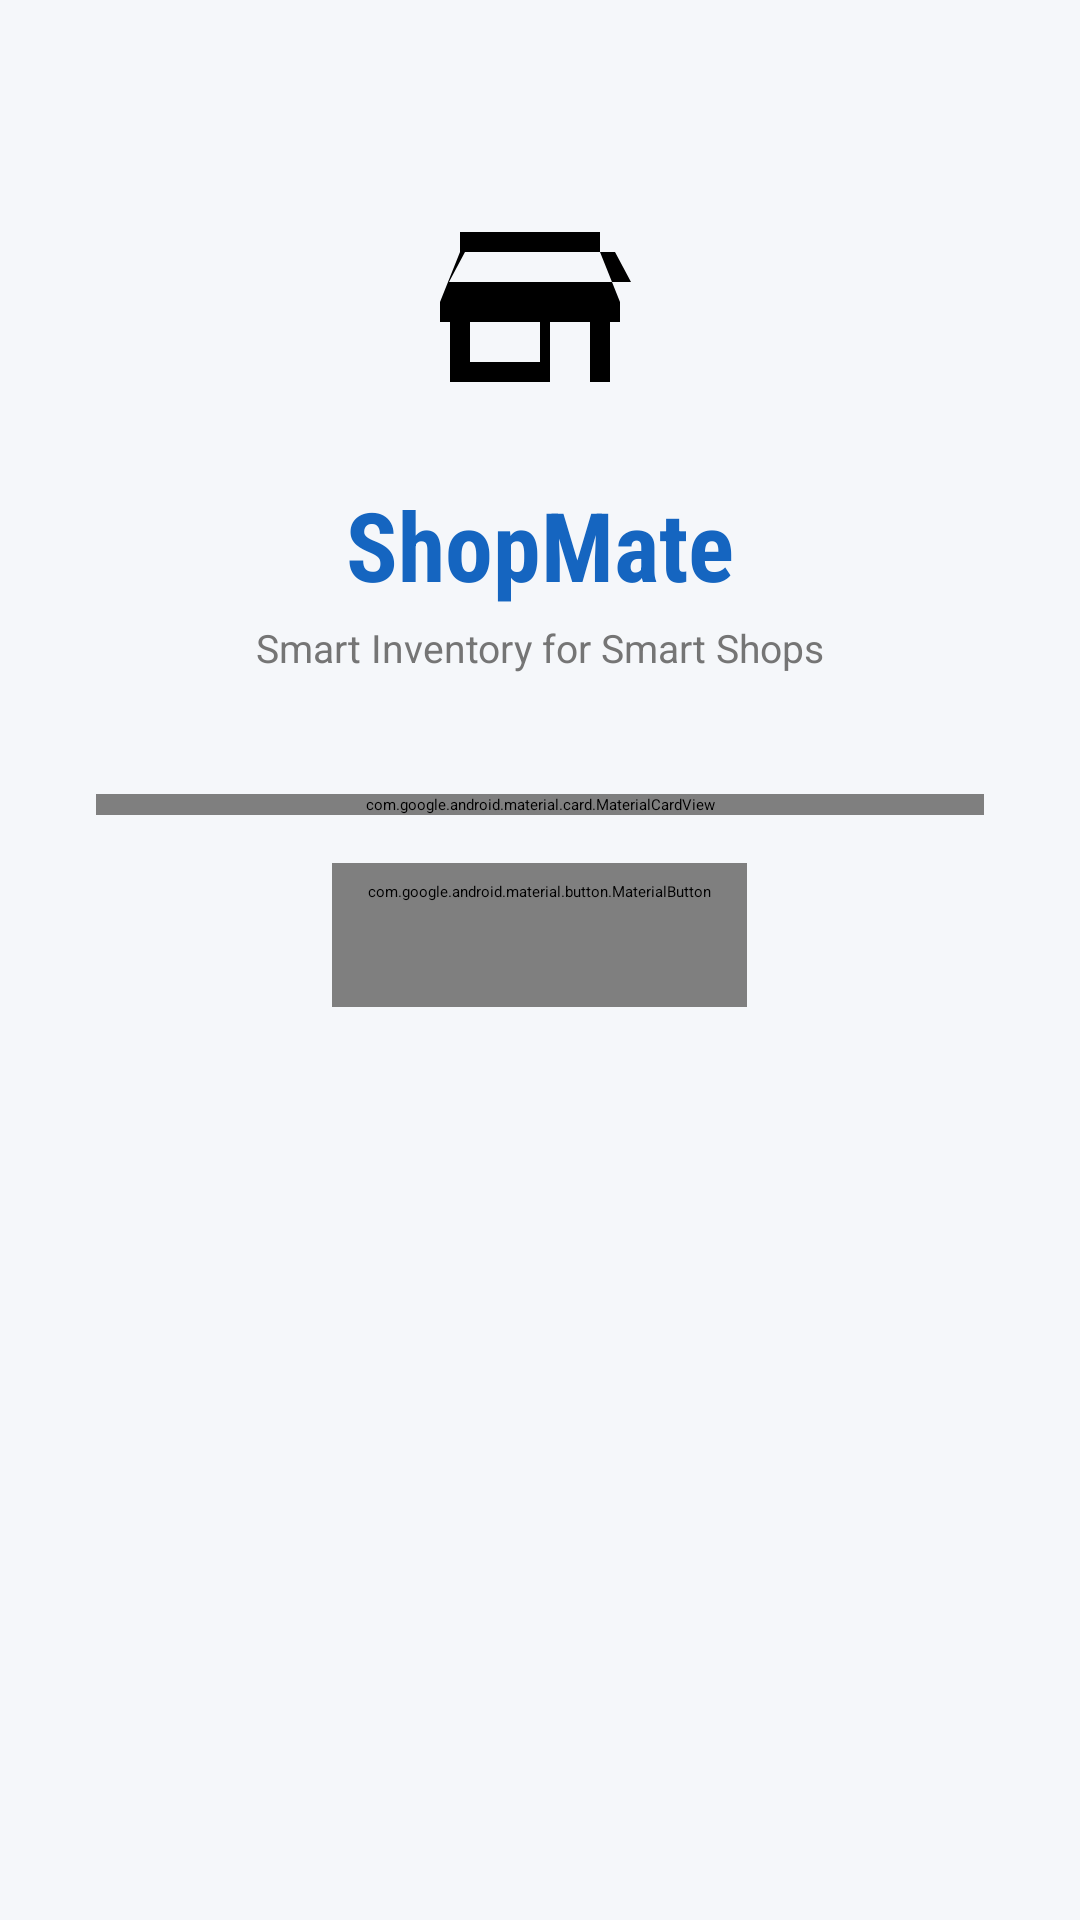

Screen size 1080×1920. Icon name, then its center in pixels as (x,y):
store: (535,307)
